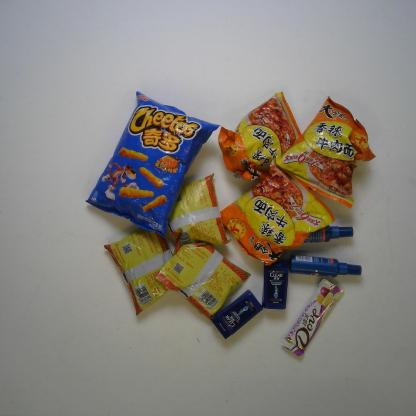Chocolate: (281, 278, 344, 359)
Instant Noodles: (219, 158, 336, 266), (276, 96, 376, 209), (217, 91, 302, 183)
Personal Hygiene: (211, 289, 263, 340), (288, 254, 362, 278), (261, 262, 289, 310), (304, 225, 354, 243)
Puffed Food: (85, 90, 221, 238)
Seasoner: (155, 241, 251, 321), (103, 227, 174, 317), (167, 173, 232, 246)
